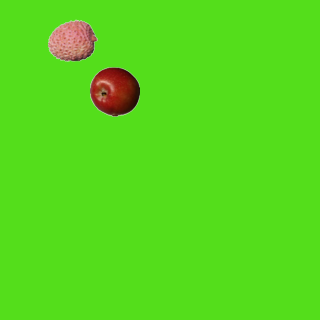Apple Braeburn: (89, 66, 139, 116)
Lychee: (47, 15, 97, 65)
